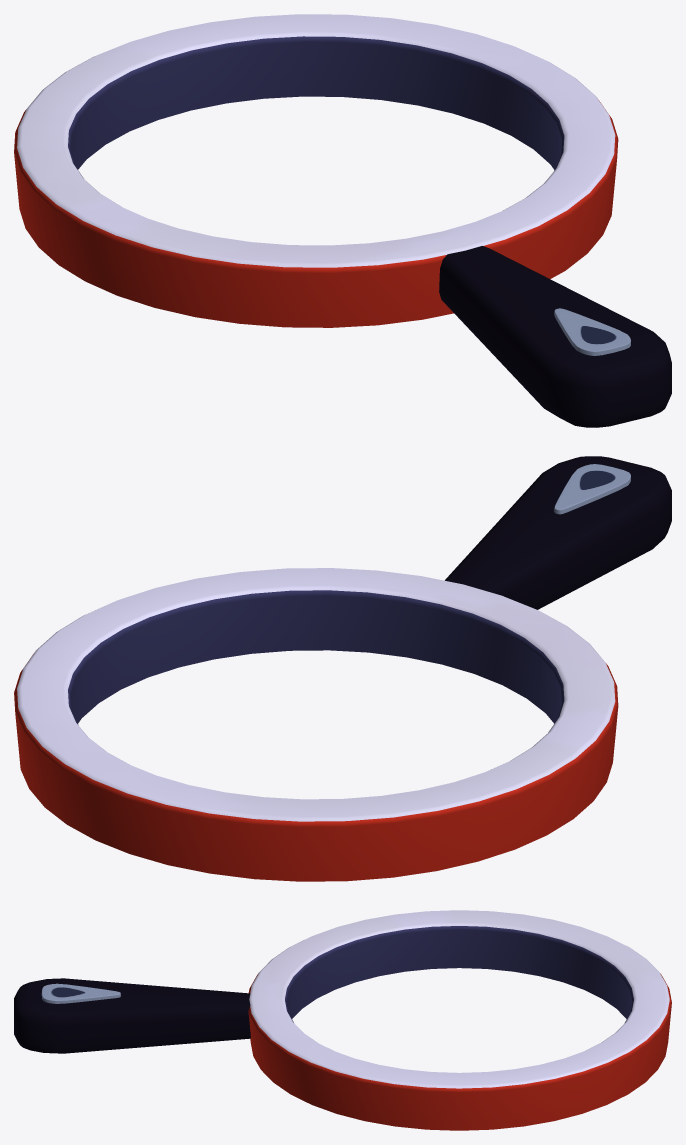
The model's file is HoleCaudron.fbx.
3 views of the same model, one above another, from view 1: azimuth 30°, elevation 25°; view 2: azimuth 150°, elevation 25°; view 3: azimuth 270°, elevation 25° (orthographic). The views are drawn at different scales.
Parts seen in each view (by area): view 1: Caudron; view 2: Caudron; view 3: Caudron.
Boxes of the visible parts, x1,y1,x2,y2 form: Caudron: (14, 14, 671, 427); Caudron: (14, 456, 671, 881); Caudron: (14, 910, 671, 1130).
Bounding box in the file's own units: 1.95 × 0.2549 × 3.01.
Materials: 1 (1 with a texture image).
